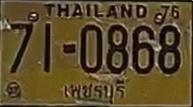0: (80, 24, 102, 73)
1: (44, 23, 50, 72)
6: (132, 25, 154, 73)
7: (10, 22, 32, 72)
8: (158, 24, 180, 74), (106, 24, 127, 73)
PBI: (62, 77, 131, 106)
